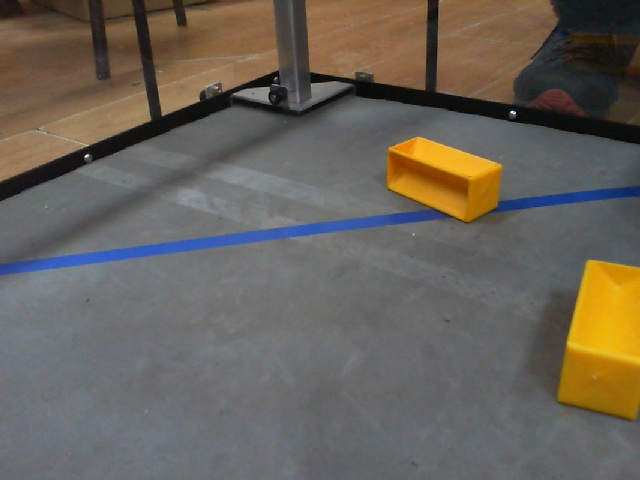YellowSample: (556, 254, 640, 424), (382, 130, 506, 230)
